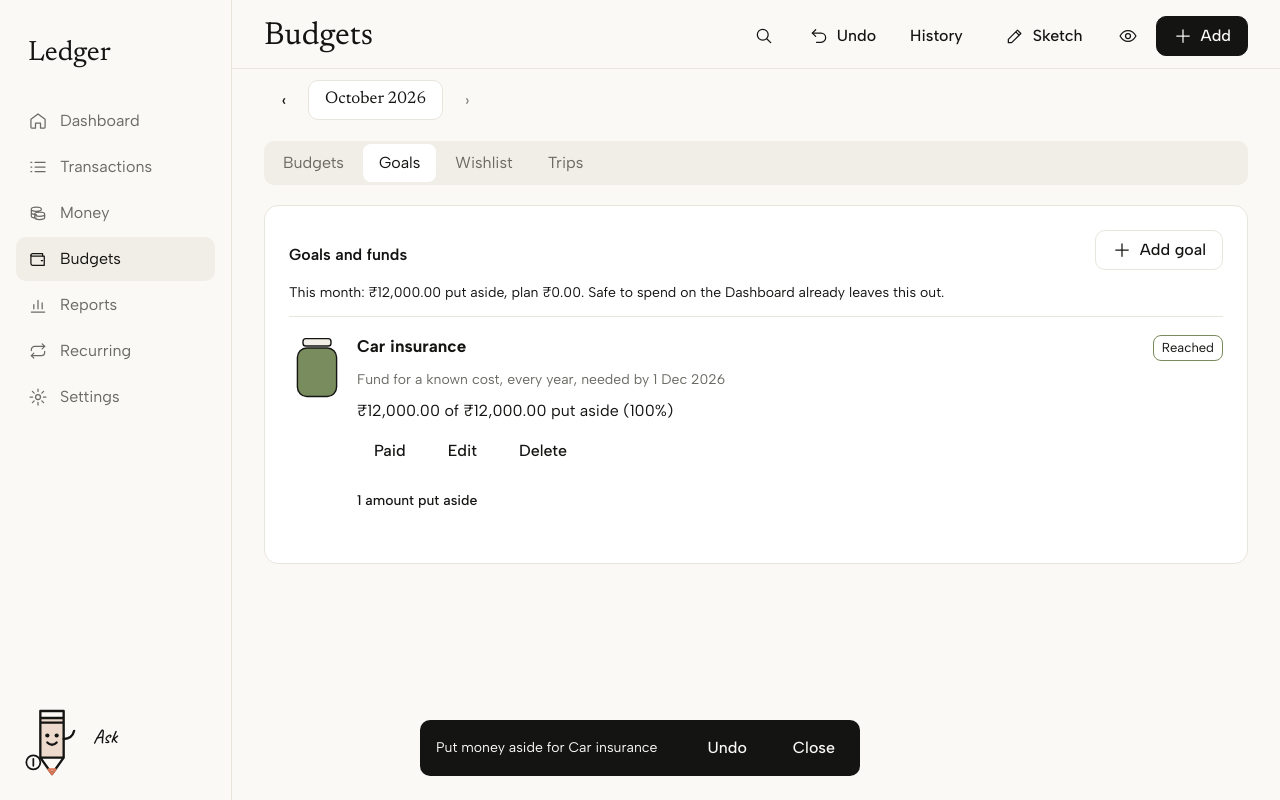
Scenario: goals › marks a yearly fund paid and starts it again
Expected: the heading "Budgets" is shown, [264,20,373,52]
Expected: the text with test id "goal-state" reads "Reached", [1162,340,1214,355]
Click the button "Paid": (390, 451) [357,431,423,471]
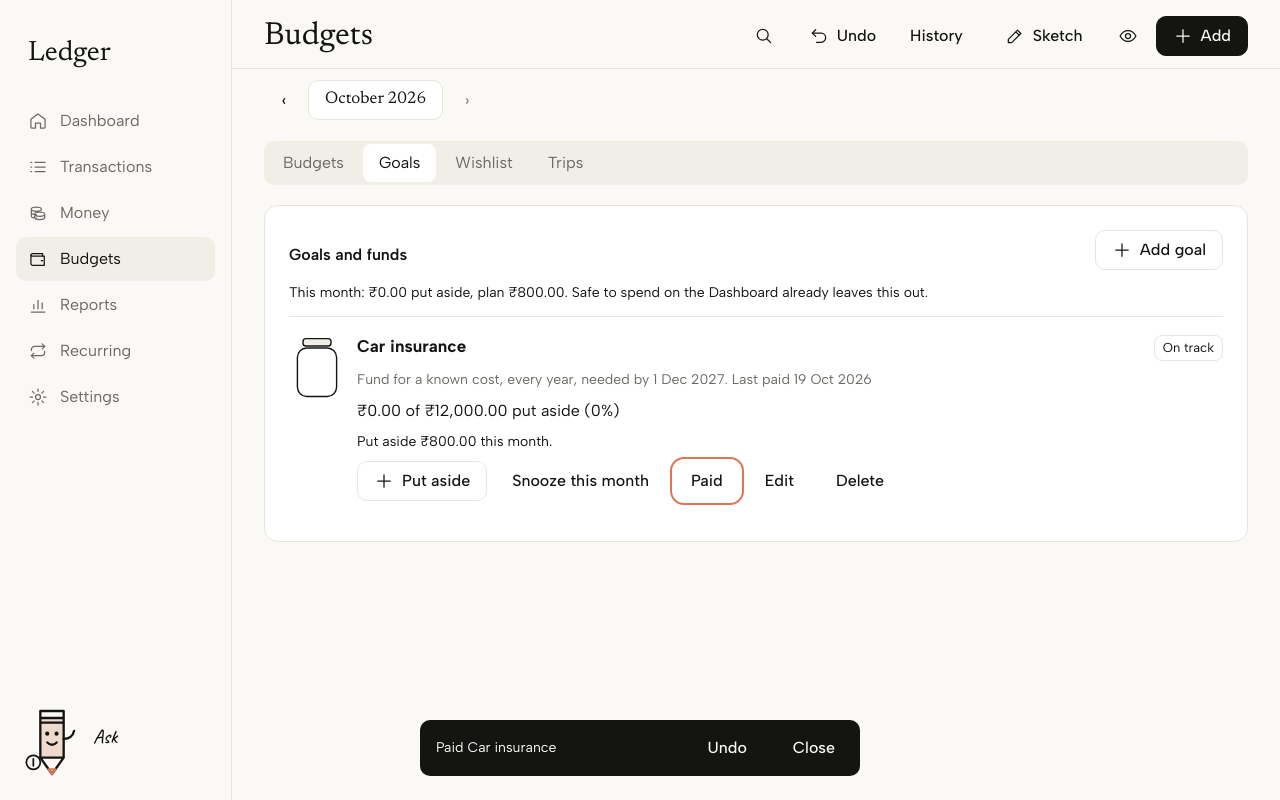
Expected: the element with test id "goal" shows "needed by 1 Dec 2027", [574,371,725,388]
Expected: the element with test id "goal" shows "Last paid 19 Oct 2026", [724,371,872,388]
